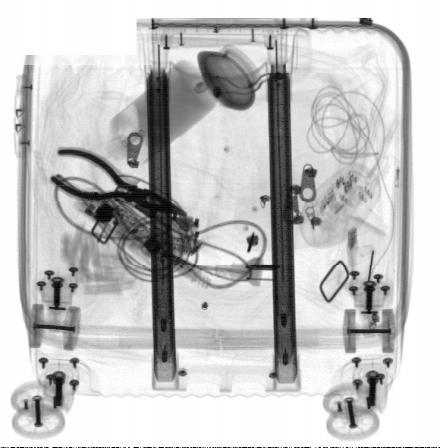Pliers: (49, 146, 188, 217)
